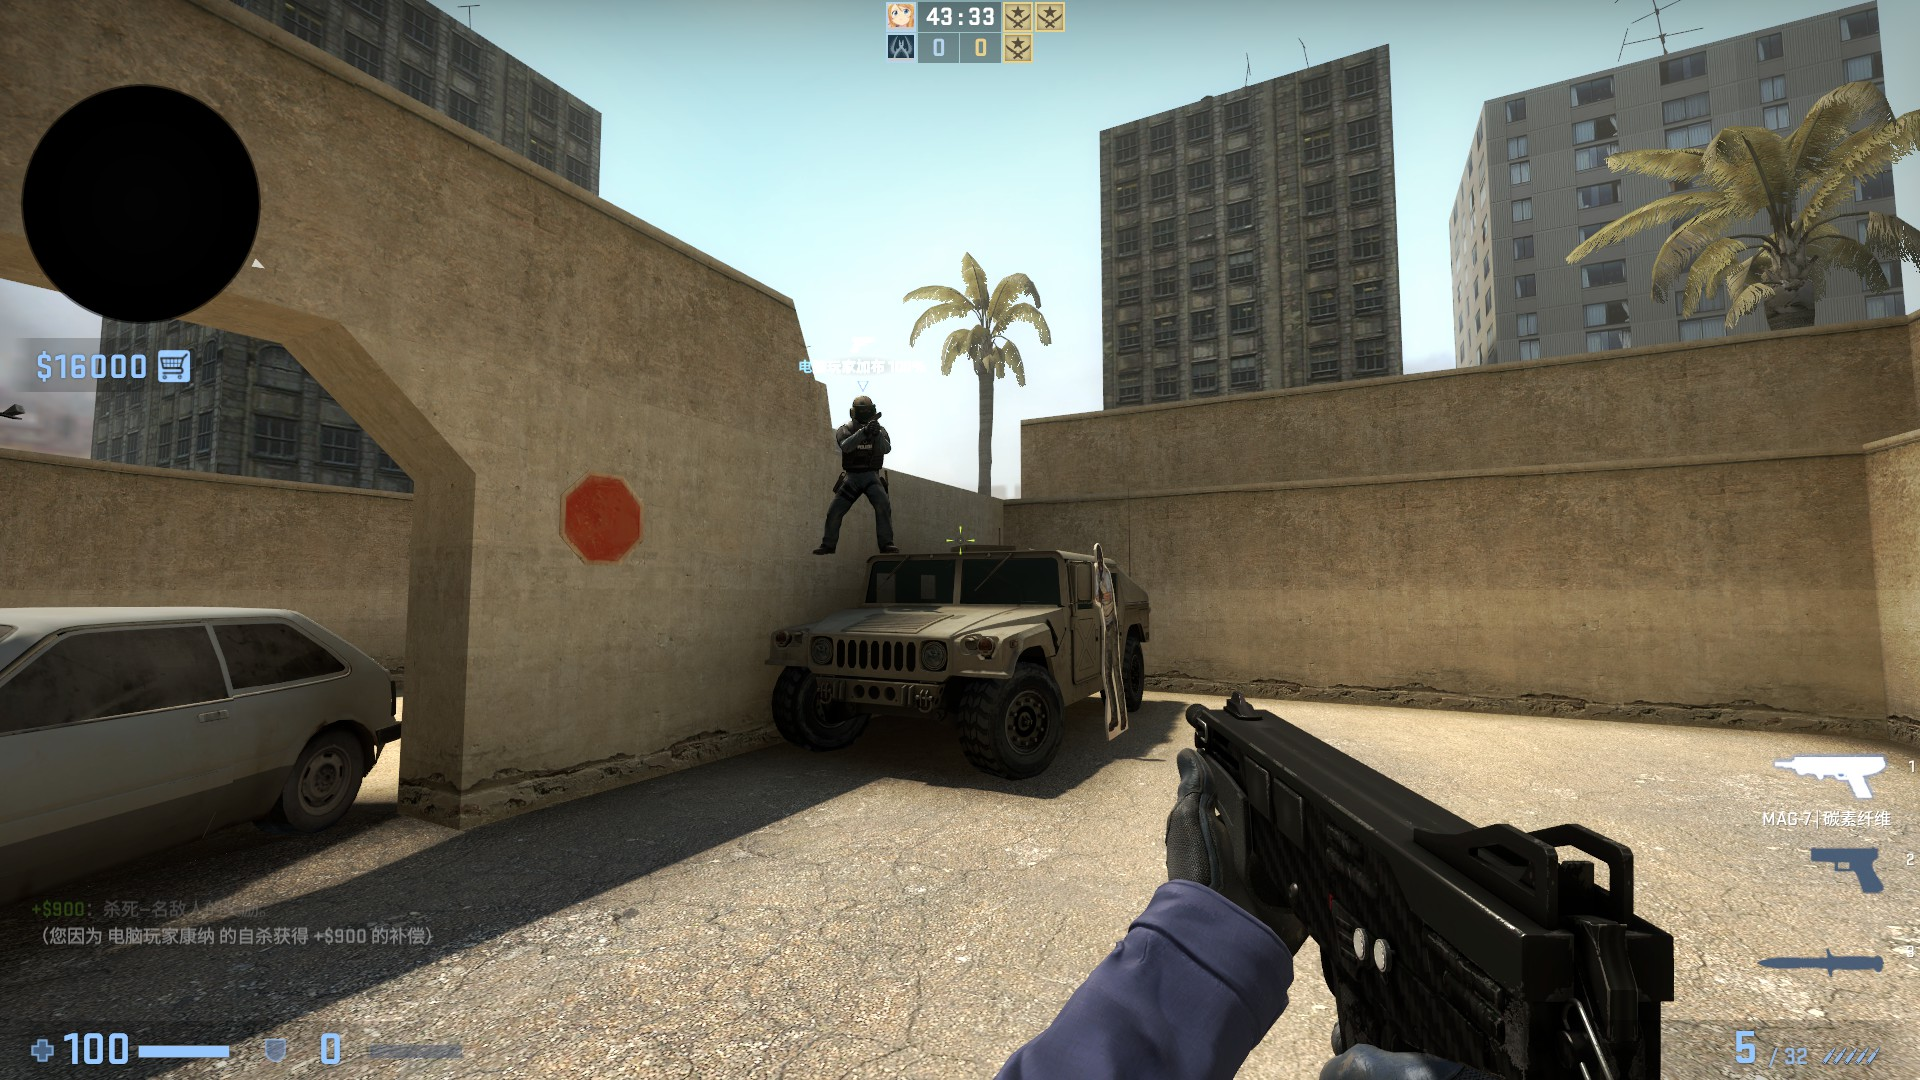head: (847, 394, 880, 430), (1089, 541, 1106, 574)
